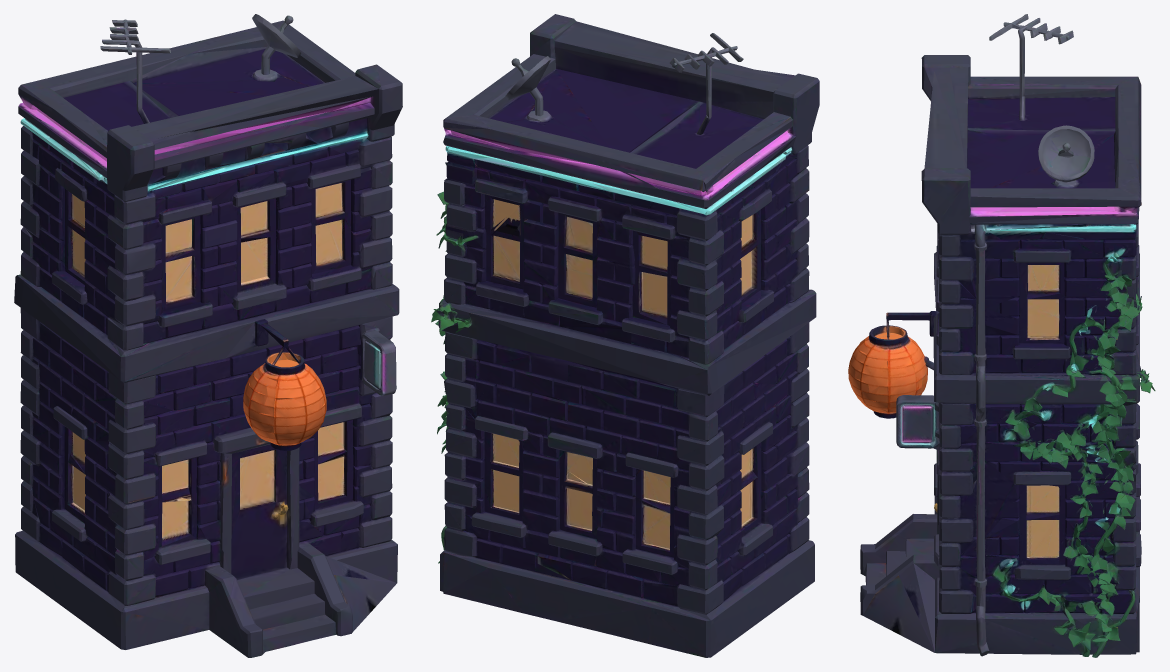
Rendered from lantern-house.glb.
The picture shows the model from 3 angles, left to right: view 1: azimuth 30°, elevation 25°; view 2: azimuth 150°, elevation 25°; view 3: azimuth 270°, elevation 25°; orthographic projection. The views are drawn at different scales.
Visible parts, largest first — view 1: output_unwrapped; view 2: output_unwrapped; view 3: output_unwrapped.
Boxes of the visible parts, x1,y1,x2,y2 form: output_unwrapped: [14, 14, 402, 657]; output_unwrapped: [431, 14, 819, 657]; output_unwrapped: [848, 14, 1155, 657].
Bounding box in the file's own units: 1.03 × 1.9 × 1.01.
Materials: 1 (1 with a texture image).
